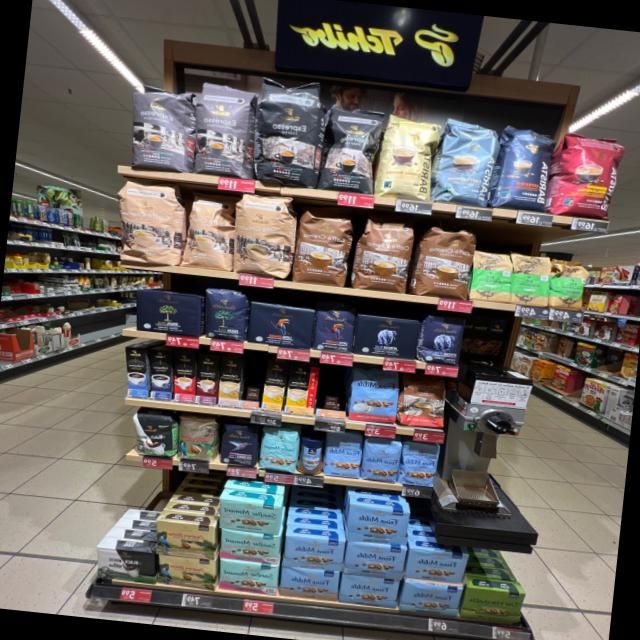AB Bohne: (416, 313, 466, 366)
AB Gemahlen: (352, 312, 420, 360)
Athiopien Bohne: (548, 257, 592, 311)
Athiopien Gemahlen: (468, 248, 515, 304), (509, 251, 552, 307)
BM Gemahlen: (130, 286, 203, 338), (200, 286, 249, 342)
BW Bohne: (128, 410, 176, 458)
BW Gemahlen: (92, 546, 156, 584)
Barista CB: (374, 112, 442, 200)
Barista CC: (432, 120, 498, 207)
Barista Espresso: (494, 125, 556, 212)
Barista Kolumbien: (551, 130, 627, 222)
C Fino Bohne: (219, 422, 259, 466)
CC Mild: (110, 176, 188, 268), (230, 192, 299, 278), (180, 191, 236, 271)
CC Vollmundig: (397, 374, 448, 429)
CC Vollmundig 36 Pads: (349, 214, 416, 293), (291, 206, 356, 286), (412, 222, 478, 300)
Colombia BB Bohne: (175, 416, 219, 464)
Colombia BB Gemahlen: (153, 519, 216, 560), (156, 553, 216, 590)
Espresso Aromatisch: (188, 80, 258, 180), (124, 84, 194, 174)
Espresso Kraftig: (247, 73, 326, 188), (319, 105, 384, 193)
FM 36 Pads: (347, 366, 400, 424)
FM Bohne: (397, 440, 441, 487), (359, 436, 402, 483), (322, 429, 363, 478)
FM Gemahlen: (346, 504, 412, 546), (397, 578, 464, 618), (404, 545, 470, 585), (342, 540, 408, 580), (281, 532, 345, 572), (278, 564, 340, 601), (338, 572, 400, 608)
FM Instant: (296, 436, 326, 476)
Herzhatfe Mundig: (459, 585, 526, 626)
LG Bohne: (311, 303, 357, 353)
LG Gemahlen: (245, 300, 316, 350)
SM Bohne: (257, 424, 300, 473)
SM Gemahlen: (216, 498, 283, 535), (217, 558, 279, 596), (217, 529, 281, 565)
Simo CCMild: (284, 364, 318, 416)
Simo CCMild bigpack: (217, 355, 242, 406), (260, 363, 286, 411)
Simo Es Brazil: (173, 351, 196, 402)
Simo Es Caramel: (195, 353, 219, 404)
Simo Es Kraft: (148, 348, 171, 399)
Simo Es Vanilla: (125, 346, 148, 397)
